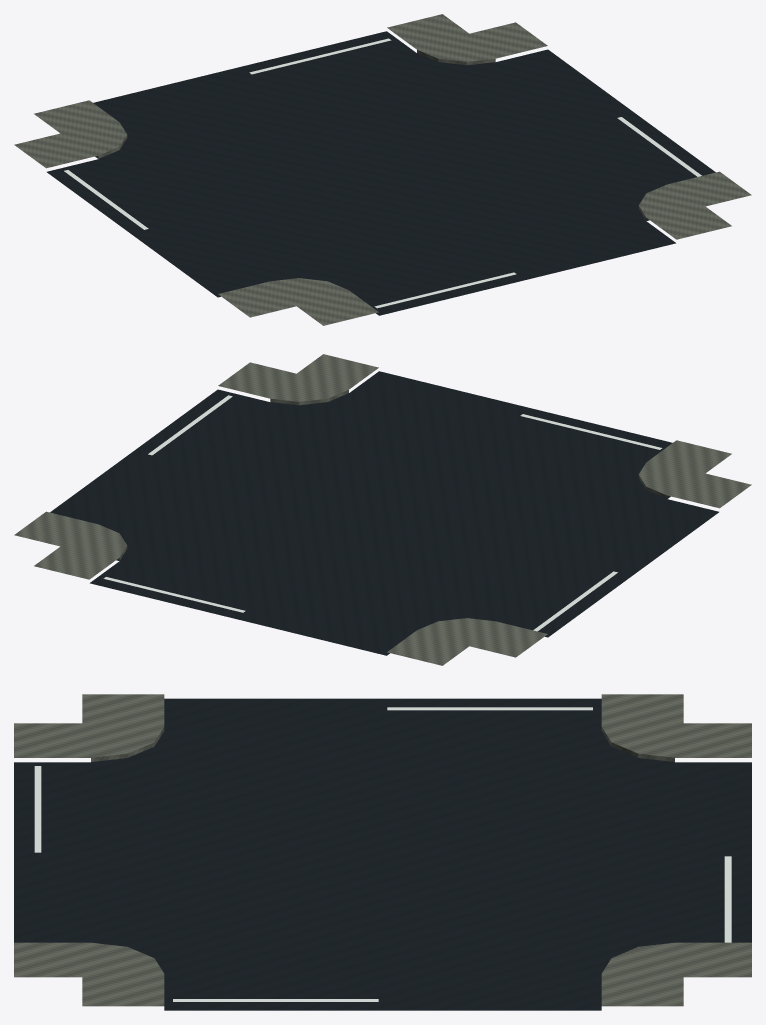
Rendered from junc_cross_4x4_LOD2.glb.
3 views of the same model, one above another, from view 1: azimuth 30°, elevation 25°; view 2: azimuth 150°, elevation 25°; view 3: azimuth 270°, elevation 25° (orthographic). The views are drawn at different scales.
Visible parts, largest first — view 1: junc_cross_4x4__surface.002, junc_cross_4x4__rounded_corner_curb.002, junc_cross_4x4__stop_line_paint.002; view 2: junc_cross_4x4__surface.002, junc_cross_4x4__rounded_corner_curb.002, junc_cross_4x4__stop_line_paint.002; view 3: junc_cross_4x4__surface.002, junc_cross_4x4__rounded_corner_curb.002, junc_cross_4x4__stop_line_paint.002.
Boxes of the visible parts, x1=… form: junc_cross_4x4__surface.002: x1=47, y1=31, x2=715, y2=315; junc_cross_4x4__rounded_corner_curb.002: x1=14, y1=14, x2=751, y2=325; junc_cross_4x4__stop_line_paint.002: x1=64, y1=38, x2=701, y2=308; junc_cross_4x4__surface.002: x1=50, y1=371, x2=718, y2=655; junc_cross_4x4__rounded_corner_curb.002: x1=14, y1=354, x2=751, y2=665; junc_cross_4x4__stop_line_paint.002: x1=103, y1=395, x2=662, y2=631; junc_cross_4x4__surface.002: x1=14, y1=698, x2=751, y2=1010; junc_cross_4x4__rounded_corner_curb.002: x1=14, y1=694, x2=751, y2=1006; junc_cross_4x4__stop_line_paint.002: x1=34, y1=707, x2=731, y2=1001.
Size of the model in its own units: 21.6 by 0.145 by 21.6.
4 materials, 3 textured.
